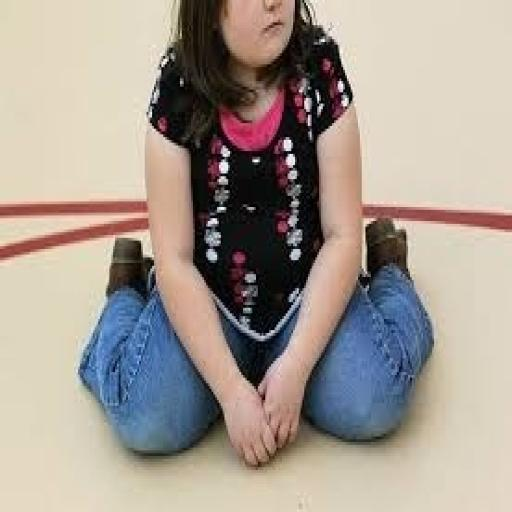sitting: (76, 0, 436, 470)
